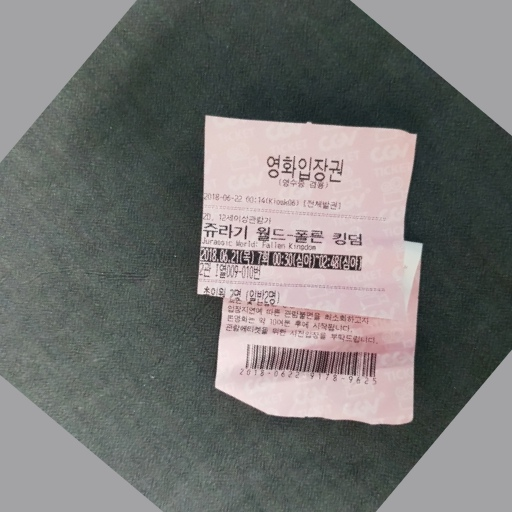Paper_3: (181, 108, 447, 447)
